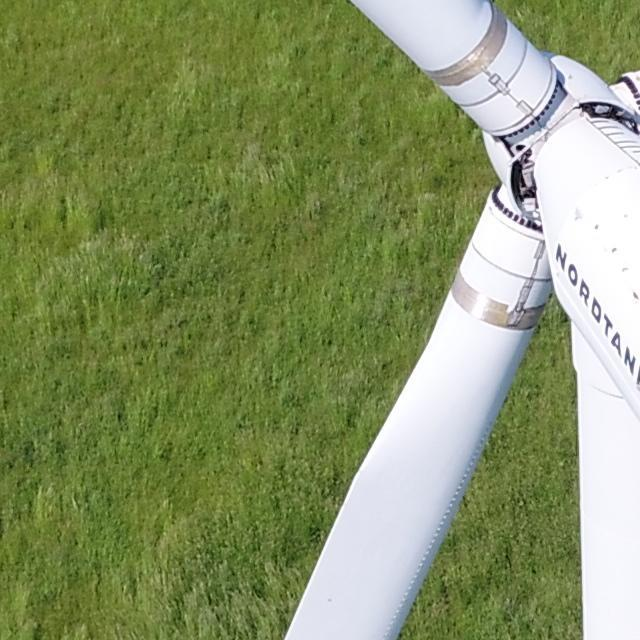damage: (572, 206, 585, 222), (632, 290, 639, 301), (566, 73, 575, 81), (622, 266, 629, 275), (611, 247, 617, 254), (594, 223, 600, 230), (623, 212, 628, 219)
